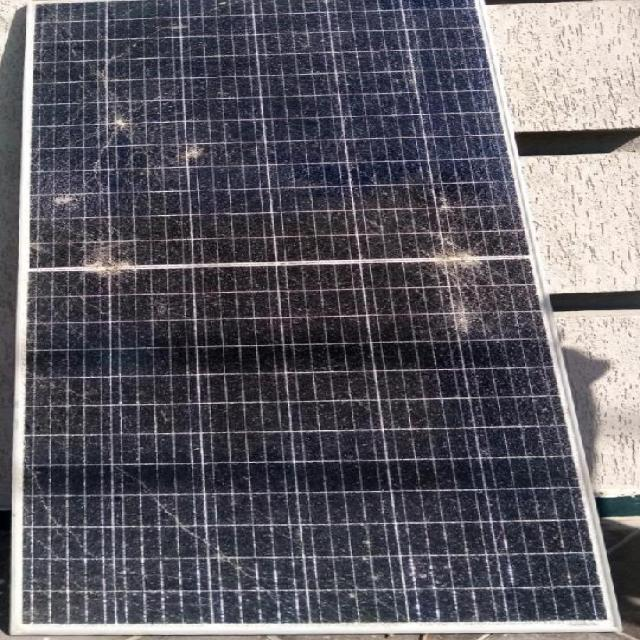faulty: (5, 0, 595, 640)
